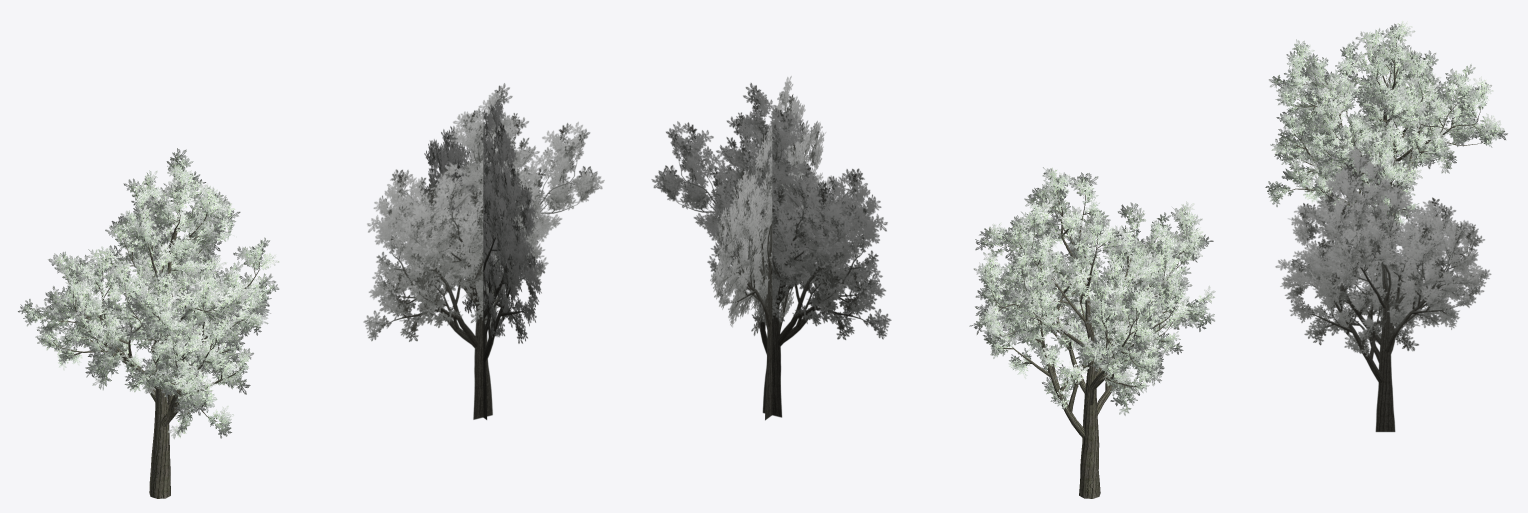
File: tree6.glb
3 views of the same model, side by side, from view 1: azimuth 30°, elevation 25°; view 2: azimuth 150°, elevation 25°; view 3: azimuth 270°, elevation 25° (orthographic). The views are drawn at different scales.
Parts seen in each view (by area): view 1: Empty.020, Leaves_LOD0.005, Branches_LOD0.005; view 2: Empty.020, Leaves_LOD0.005, Branches_LOD0.005; view 3: Empty.020, Leaves_LOD0.005, Branches_LOD0.005.
Part boxes in pixels (x1,y1,x2,y2): Empty.020: (363,83,604,419); Leaves_LOD0.005: (18,148,279,439); Branches_LOD0.005: (37,176,263,498); Empty.020: (651,76,891,420); Leaves_LOD0.005: (969,167,1215,415); Branches_LOD0.005: (991,187,1192,498); Empty.020: (1275,145,1491,431); Leaves_LOD0.005: (1265,21,1507,229); Branches_LOD0.005: (1282,37,1483,298).
Bounding box in the file's own units: 78.81 × 48.6 × 36.72.
3 materials, 3 textured.
